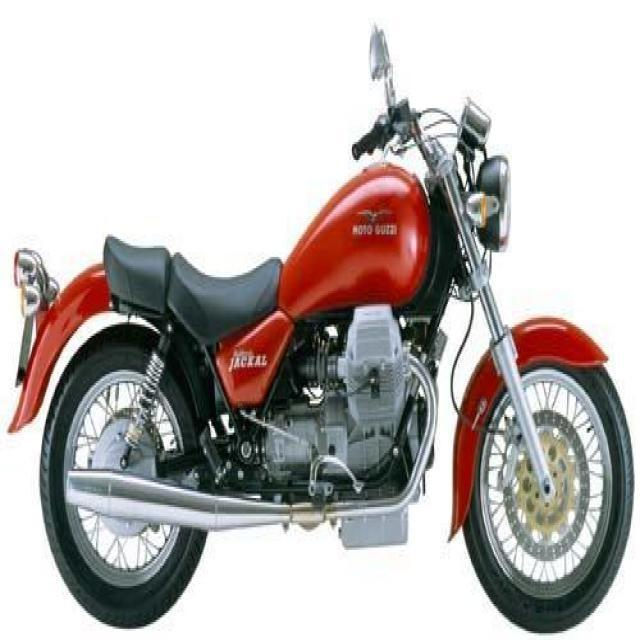Motorcycle: (18, 50, 630, 638)
